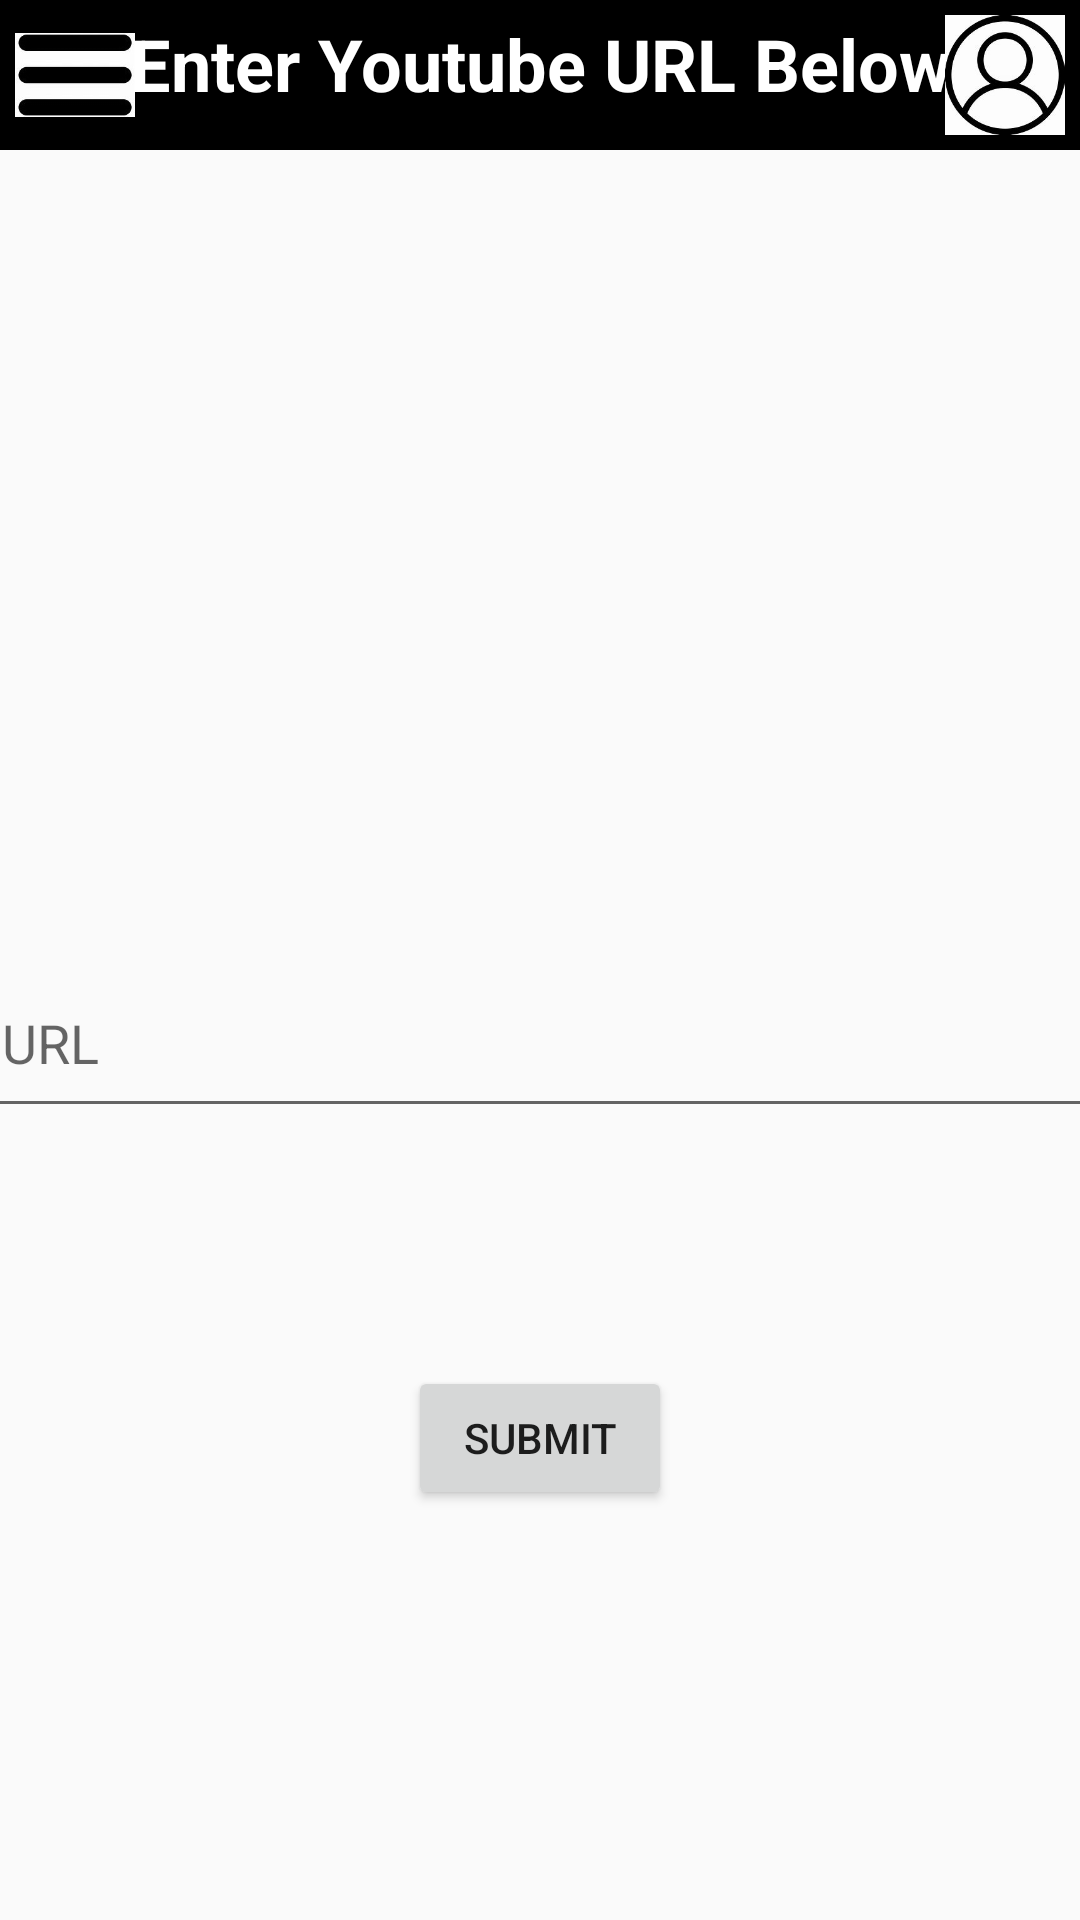

Where to tap for icons on this 1080w x 1920h app screen, as (x=x, y=y):
menu: (x=75, y=75)
profile: (x=1005, y=75)
